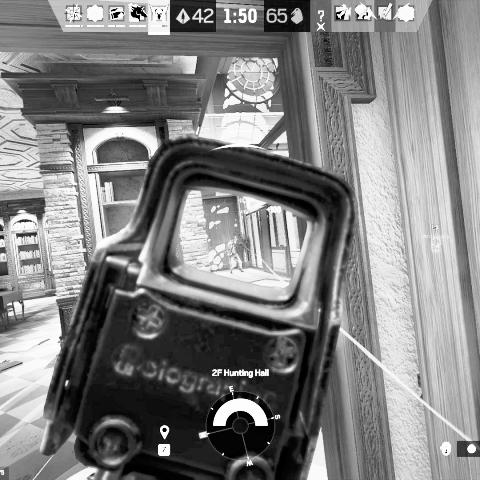Character: (228, 235, 246, 275)
Friend_label: (421, 222, 449, 240)
